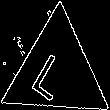L_NE: (33, 42, 80, 100)
